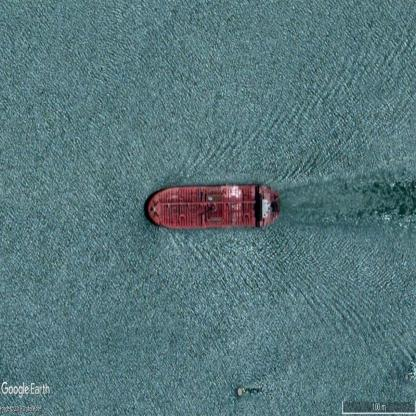ship: (147, 185, 280, 229)
